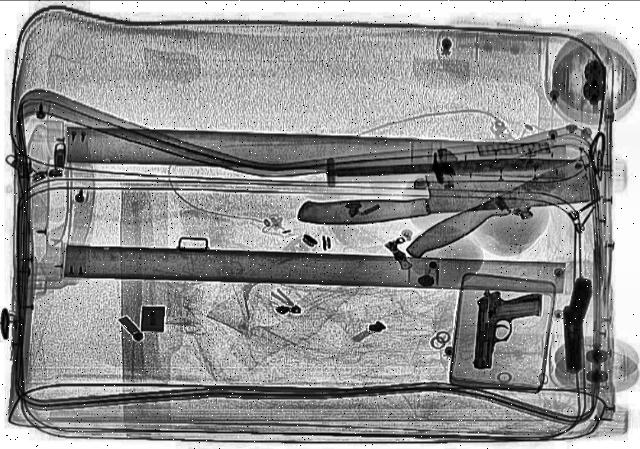Gun: (476, 289, 544, 369), (556, 276, 596, 374)
Knife: (398, 140, 614, 262), (294, 165, 602, 225), (337, 154, 579, 180)
